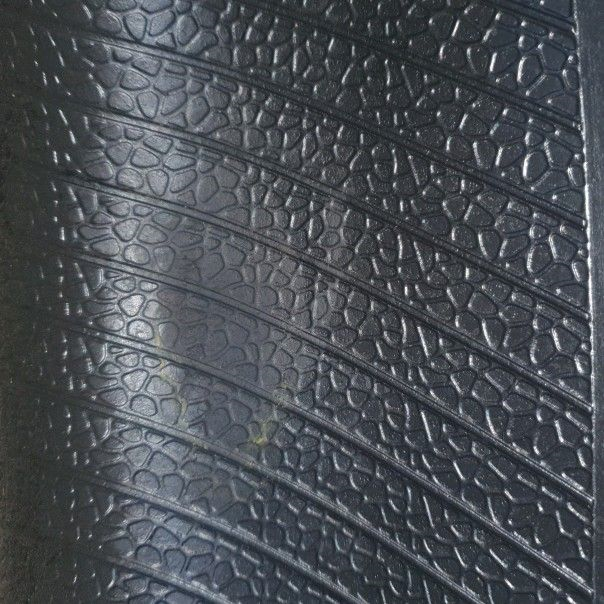CBU: (159, 269, 272, 441)
